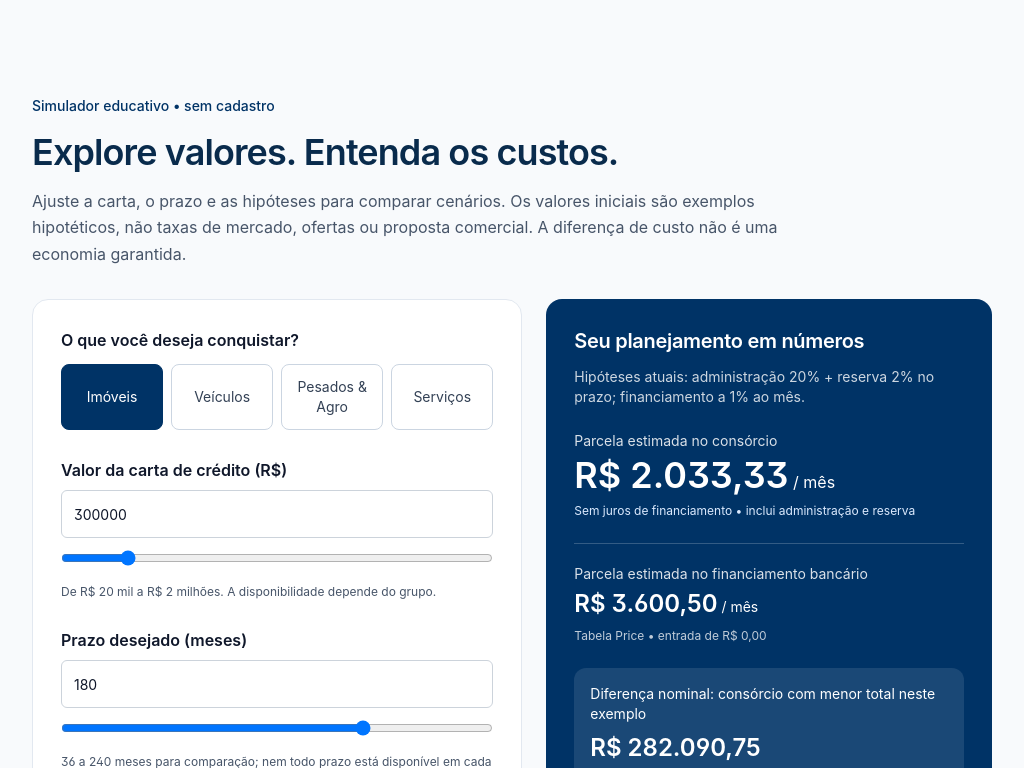
Test: Apresentação educativa do simulador de consórcio › não oferece contato com cenário inválido e transmite o cenário válido sem alterações
The width and height of the screenshot is (1024, 768).
Later steps or results of the test are not shown.
Click the radio button labelled "Pesados & Agro": (332,397) [281,364,383,430]
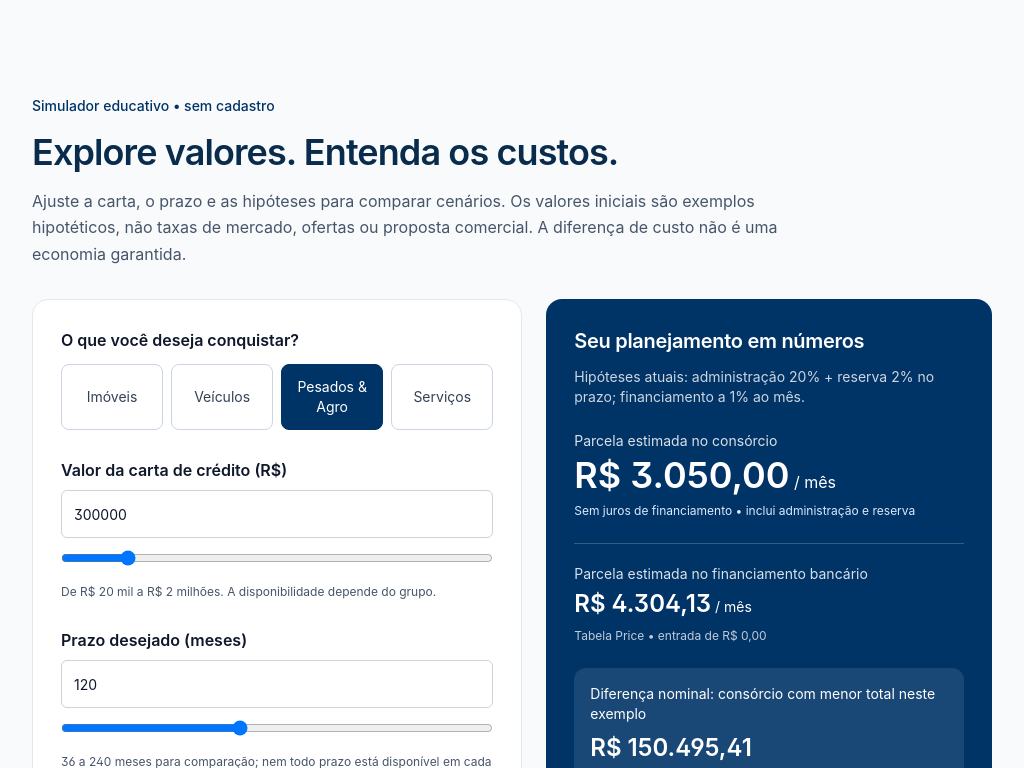
Expected: the number field labelled "Prazo desejado (meses)" holds "120", [61,660,493,708]
Replace the text in the number field labelled "Valor da carta de crédito (R$)" with "1000": (277,514) [61,490,493,538]
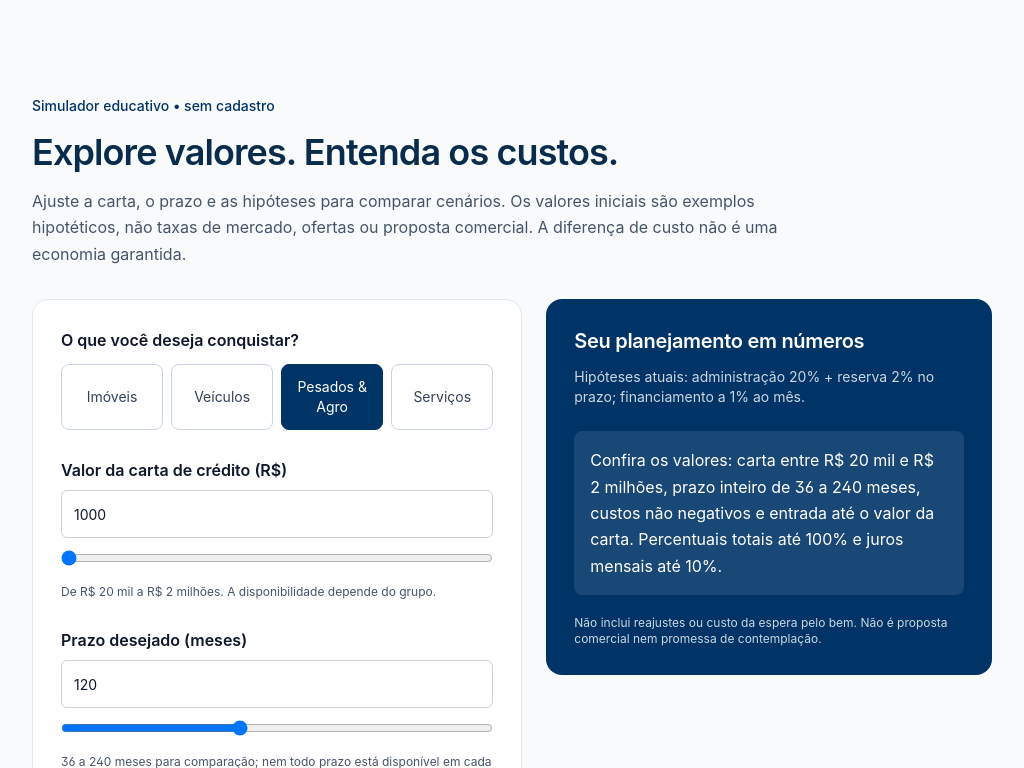
Expected: the message is shown, [574,431,964,595]
